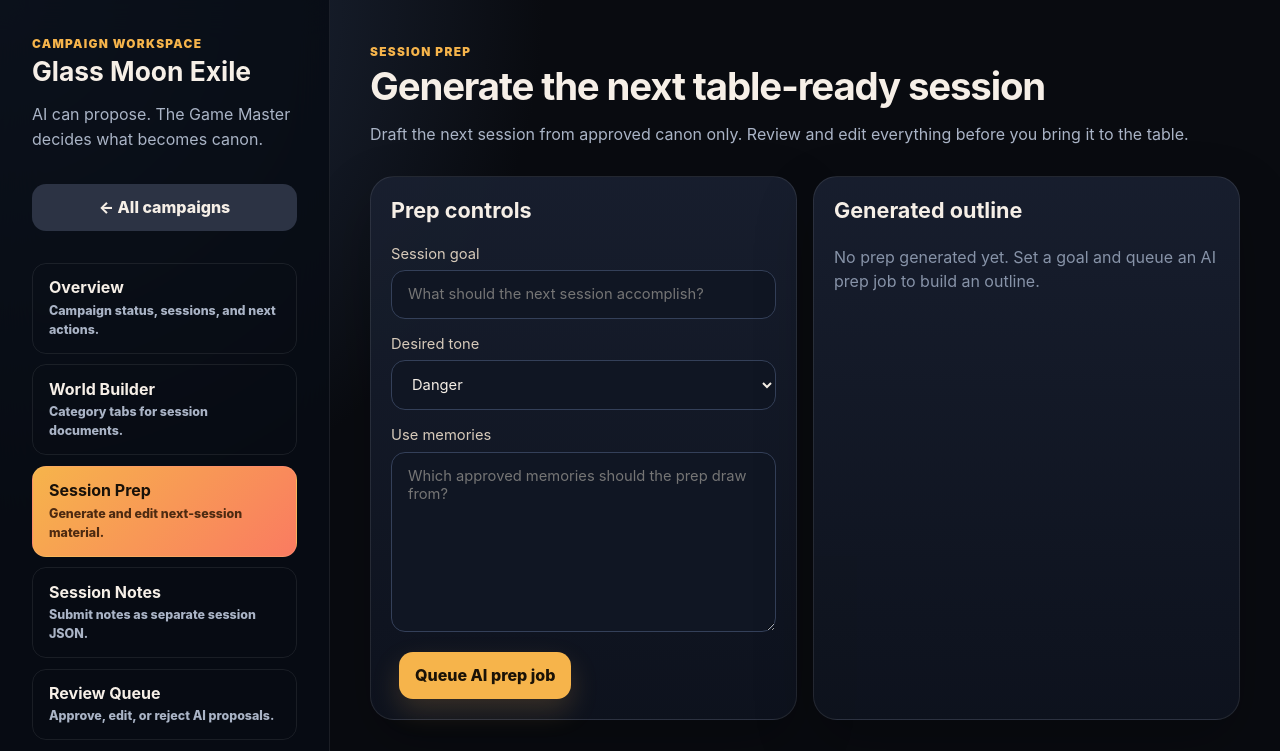
Scenario: workspace flows (via the /v1 mock API) › generates a session prep outline from a goal
The width and height of the screenshot is (1280, 751).
Type "Cross the shattered bridge" into the field with placeholder "What should the next session accomplish?" at (584, 294), box [391,270,776,318]
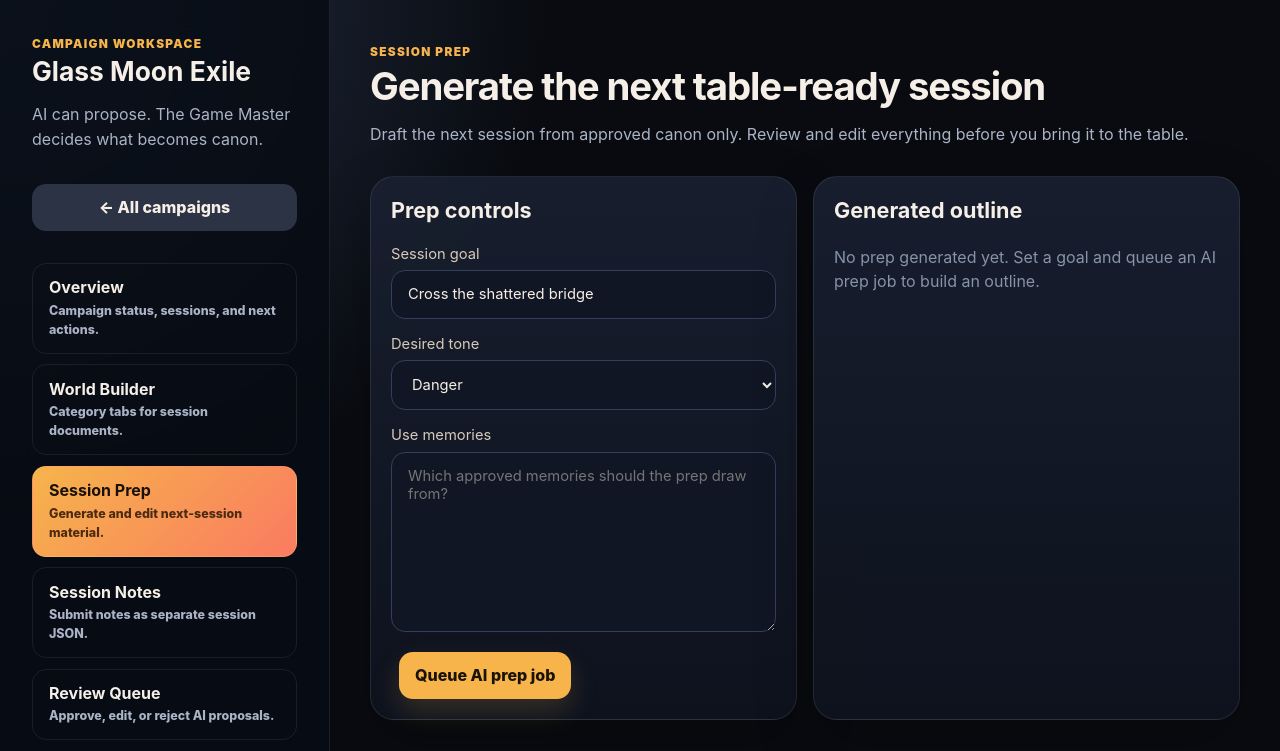
Click the button "Queue AI prep job" at (485, 675), box [399,652,571,699]
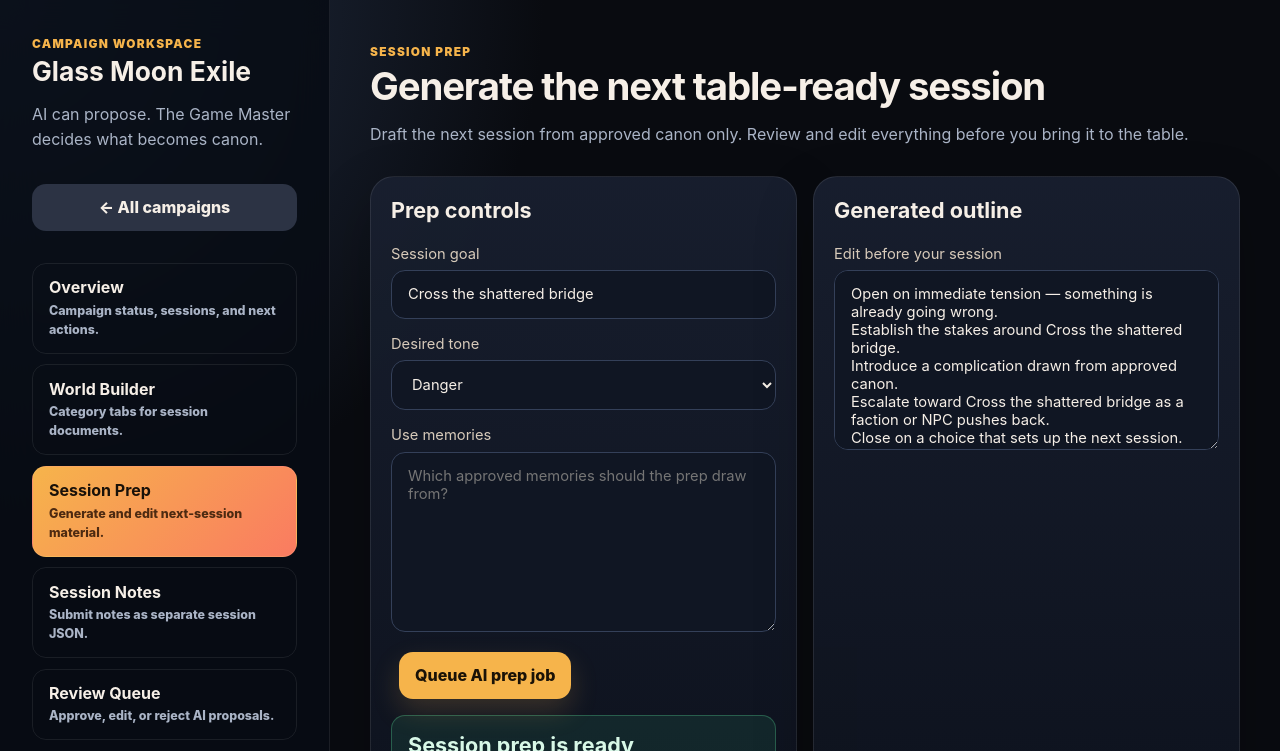
Expected: the text box showing "establish the stakes around cross the shattered bridge" is shown, [834,270,1219,450]
